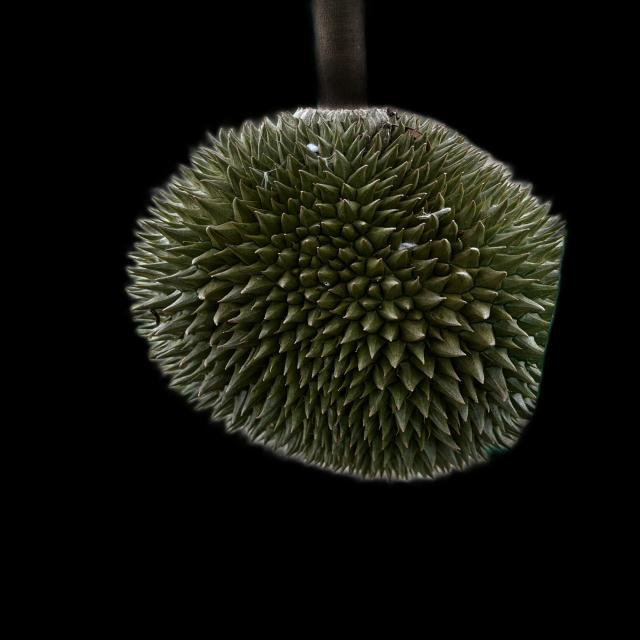immature: (126, 101, 574, 483)
